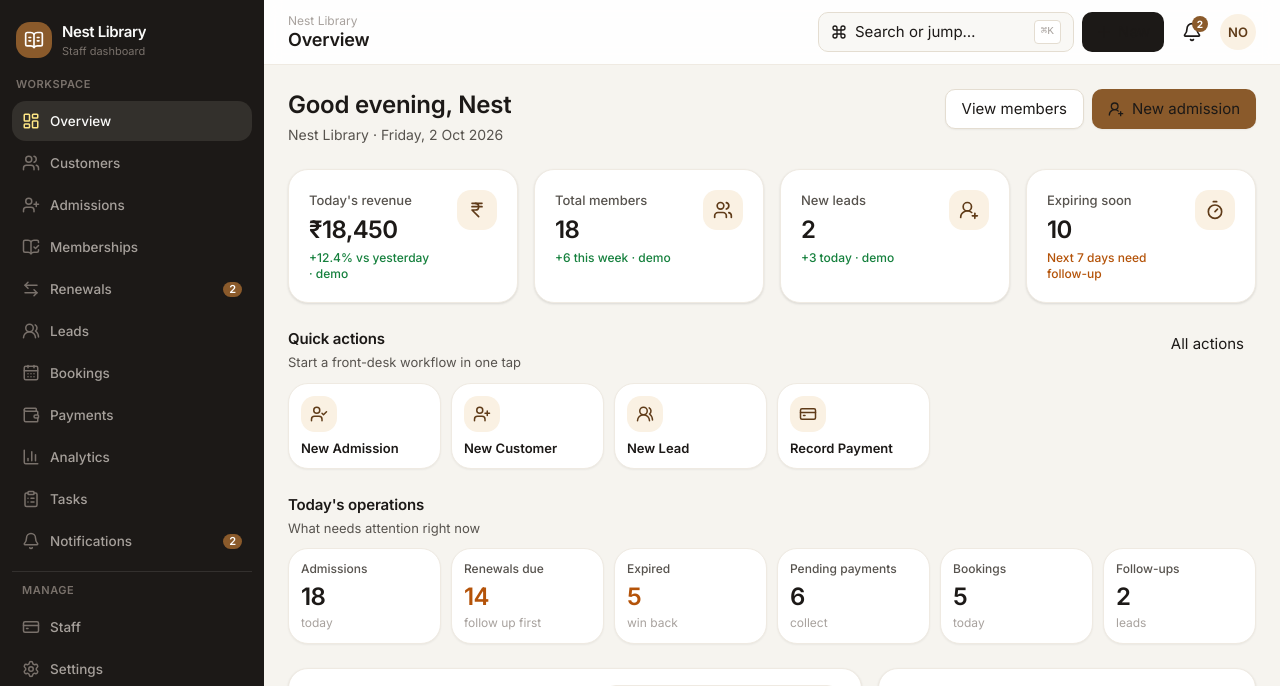
App shell › navigates to the real customers module
The image size is (1280, 686).
Expected: the text "Today's revenue" is shown, [309,192,412,208]
Click the link "Customers".
click(71, 163)  # box [22,154,120,172]
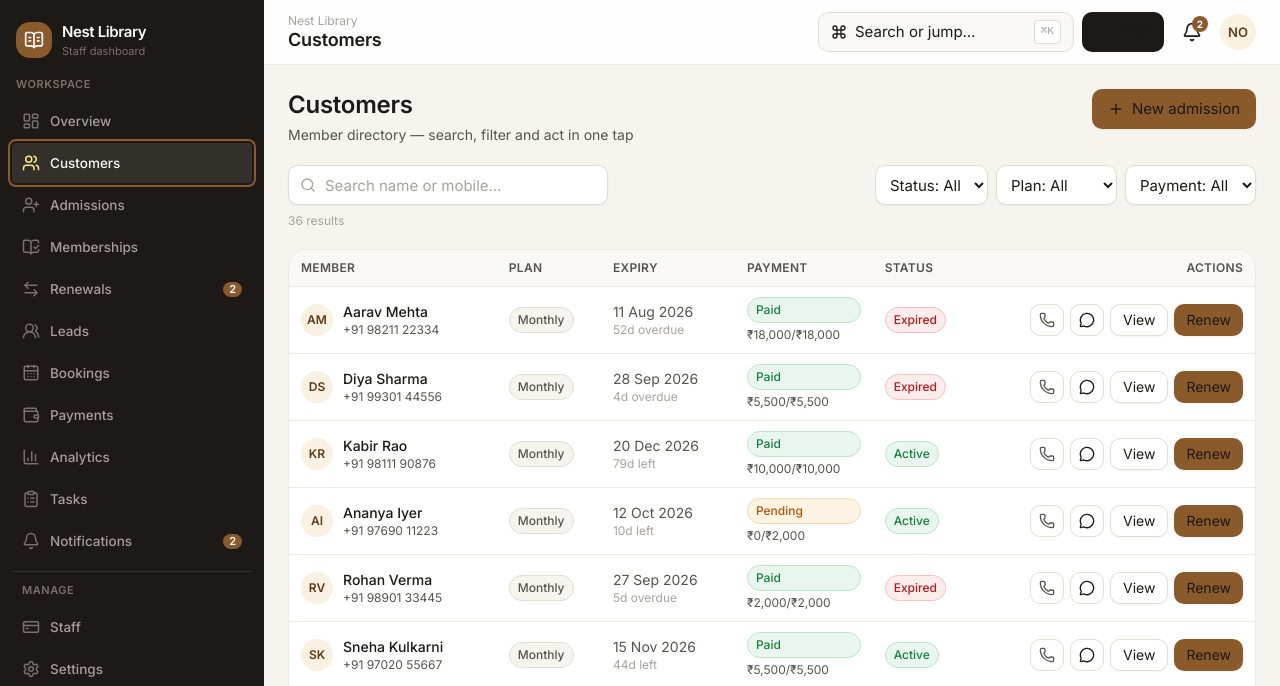
Expected: the text "Member directory — search, filter and act in one tap" is shown, [288,125,634,145]
